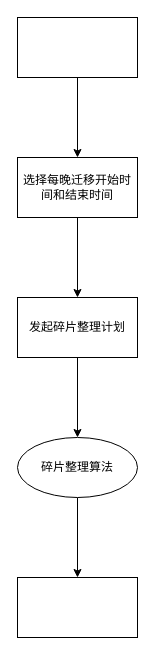
Image size: 155x655. Some labels were removed from this diagram. Each missing label, with the centre of its shape:
"开始迁移任务 显示任务进度条 （一个任务可能要持续几天）" belongs at (77,607).
"选择宿主机组" belongs at (77,47).
